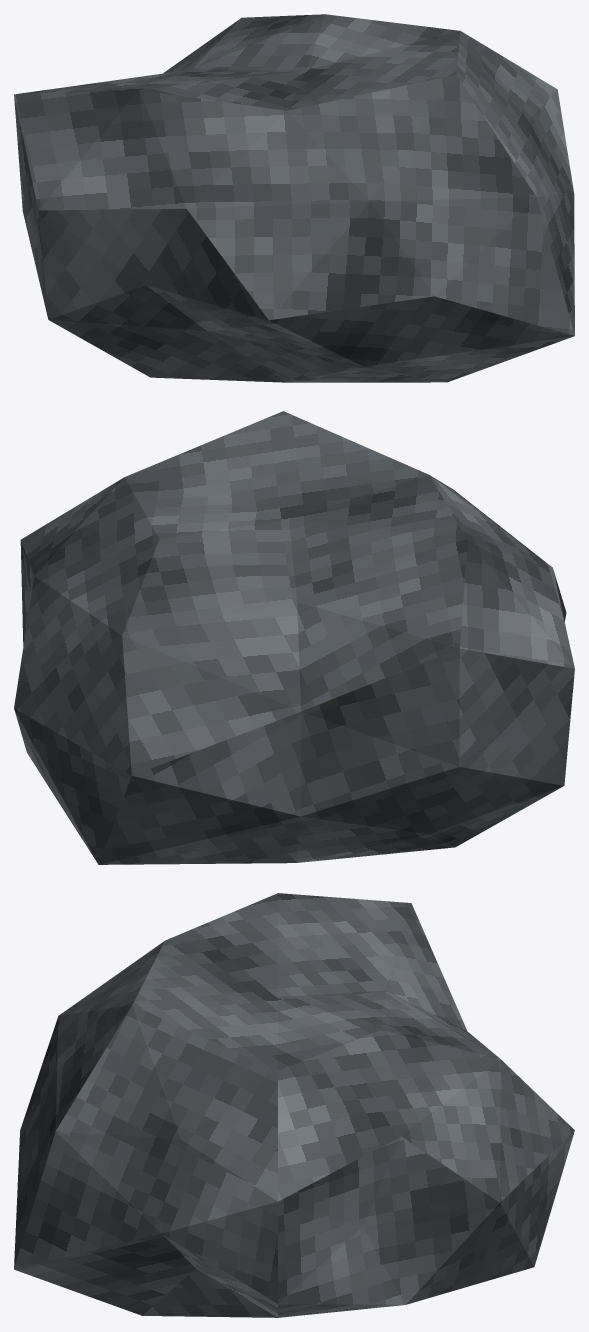
Rendered from Astreroid_8.fbx.
3 renders of one model, top to bottom at view 1: azimuth 30°, elevation 25°; view 2: azimuth 150°, elevation 25°; view 3: azimuth 270°, elevation 25°, orthographic. The views are drawn at different scales.
Visible parts, largest first — view 1: Asteroid_LowPoly; view 2: Asteroid_LowPoly; view 3: Asteroid_LowPoly.
Boxes of the visible parts, box(x1,y1,x2,y2) form: Asteroid_LowPoly: box(14, 14, 574, 382); Asteroid_LowPoly: box(14, 411, 574, 864); Asteroid_LowPoly: box(14, 893, 574, 1317).
Bounding box in the file's own units: 496 × 304 × 461.
